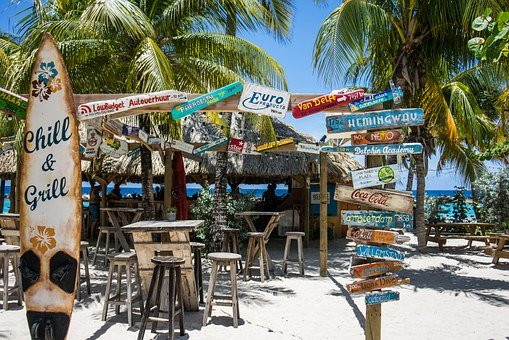beach: (2, 2, 508, 340)
